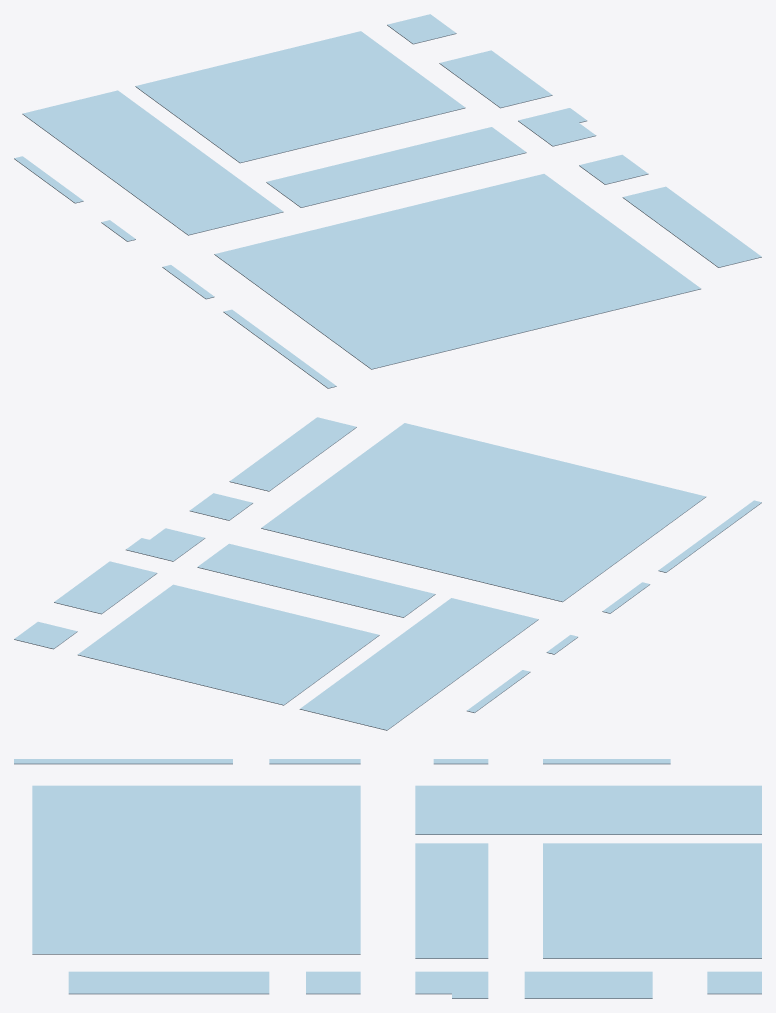
Rendered from SM_MPRR_SolarBank_01_0_LOD1.fbx.
3 renders of one model, top to bottom at view 1: azimuth 30°, elevation 25°; view 2: azimuth 150°, elevation 25°; view 3: azimuth 270°, elevation 25°, orthographic. The views are drawn at different scales.
Visible parts, largest first — view 1: SM_MPRR_SolarBank_01_0_LOD1; view 2: SM_MPRR_SolarBank_01_0_LOD1; view 3: SM_MPRR_SolarBank_01_0_LOD1.
Part boxes in pixels (x1,y1,x2,y2): SM_MPRR_SolarBank_01_0_LOD1: (14, 14, 761, 388); SM_MPRR_SolarBank_01_0_LOD1: (14, 417, 761, 730); SM_MPRR_SolarBank_01_0_LOD1: (14, 759, 761, 998).
Size of the model in its own units: 6048 by 7995 by 8.
